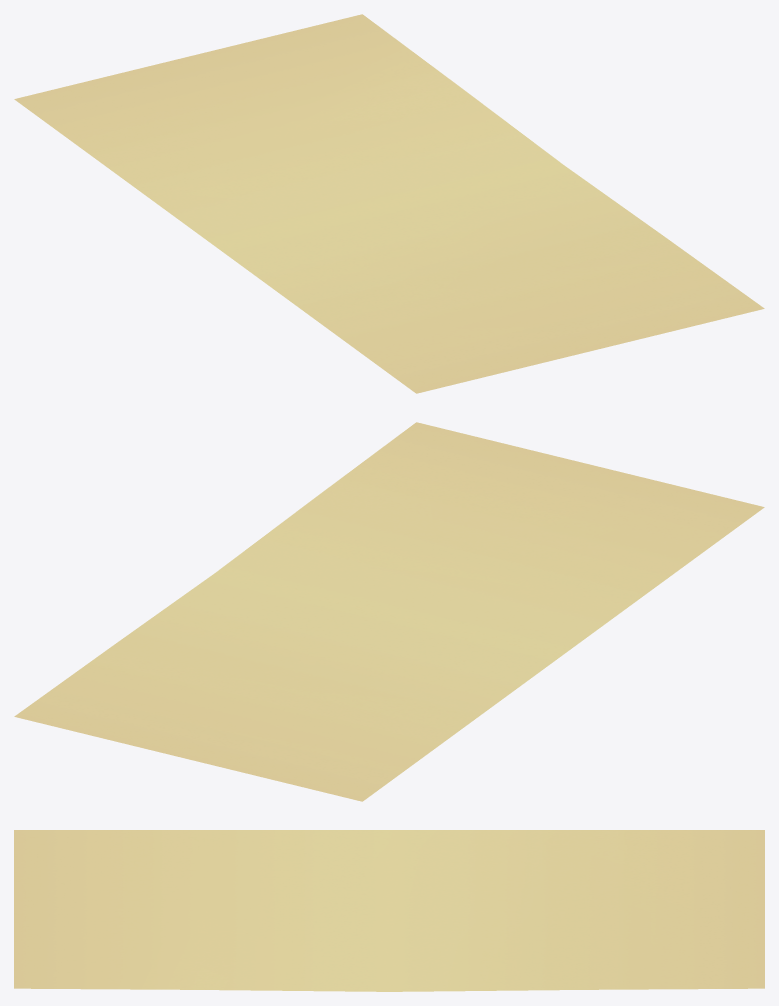
File: Beach_SandPath_02_B.fbx
3 views of the same model, one above another, from view 1: azimuth 30°, elevation 25°; view 2: azimuth 150°, elevation 25°; view 3: azimuth 270°, elevation 25° (orthographic). The views are drawn at different scales.
Visible parts, largest first — view 1: Beach_SandPath_02_B; view 2: Beach_SandPath_02_B; view 3: Beach_SandPath_02_B.
Part boxes in pixels (box(x1,y1,x2,y2)): Beach_SandPath_02_B: box(14, 14, 764, 393); Beach_SandPath_02_B: box(14, 422, 764, 801); Beach_SandPath_02_B: box(14, 830, 764, 991).
Bounding box in the file's own units: 1000 × 9.56 × 2000.
